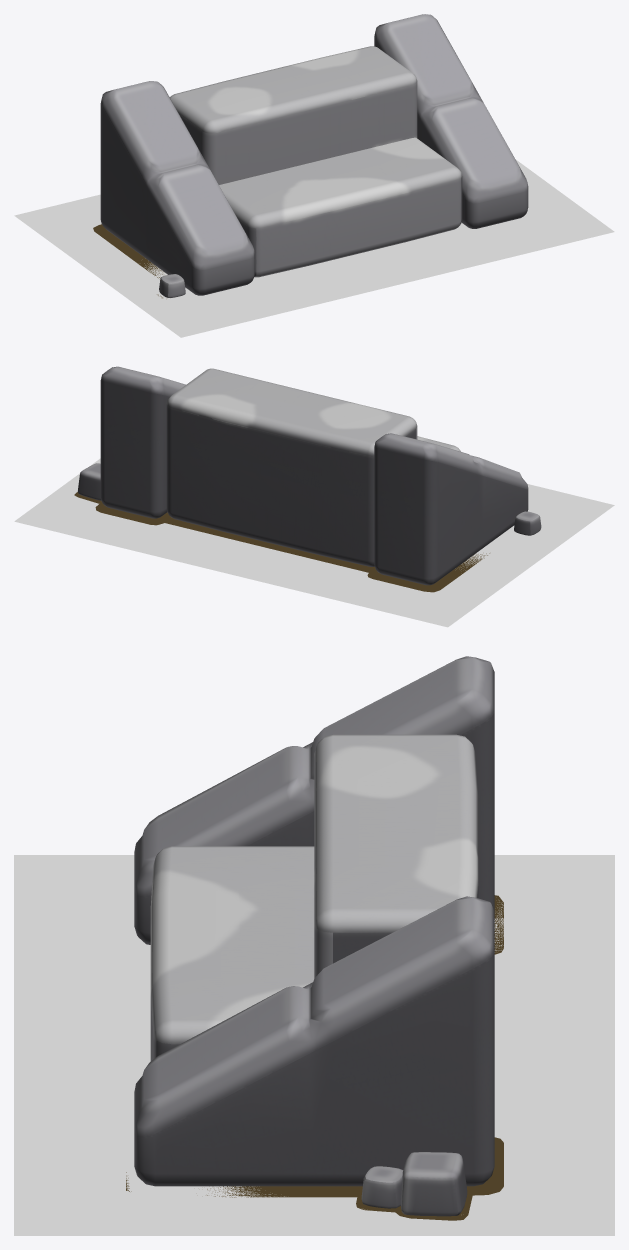
The model's file is JP_RockStair.fbx.
The picture shows the model from 3 angles, top to bottom: view 1: azimuth 30°, elevation 25°; view 2: azimuth 150°, elevation 25°; view 3: azimuth 270°, elevation 25°; orthographic projection. The views are drawn at different scales.
Parts seen in each view (by area): view 1: polySurface2, RockStair_Grid_Large, RockStair_Grid, Shadow; view 2: polySurface2, RockStair_Grid_Large, Shadow, RockStair_Grid; view 3: polySurface2, RockStair_Grid, RockStair_Grid_Large, Shadow.
Part boxes in pixels (bbox=[...]): polySurface2: bbox=[100, 14, 528, 297]; RockStair_Grid_Large: bbox=[14, 159, 614, 337]; RockStair_Grid: bbox=[87, 194, 541, 319]; Shadow: bbox=[93, 224, 164, 298]; polySurface2: bbox=[77, 366, 541, 585]; RockStair_Grid_Large: bbox=[14, 458, 614, 627]; Shadow: bbox=[74, 492, 489, 592]; RockStair_Grid: bbox=[87, 484, 541, 566]; polySurface2: bbox=[134, 656, 494, 1216]; RockStair_Grid: bbox=[14, 918, 614, 1172]; RockStair_Grid_Large: bbox=[14, 855, 614, 1235]; Shadow: bbox=[126, 895, 503, 1220].
Bounding box in the file's own units: 1.5 × 0.4637 × 1.
